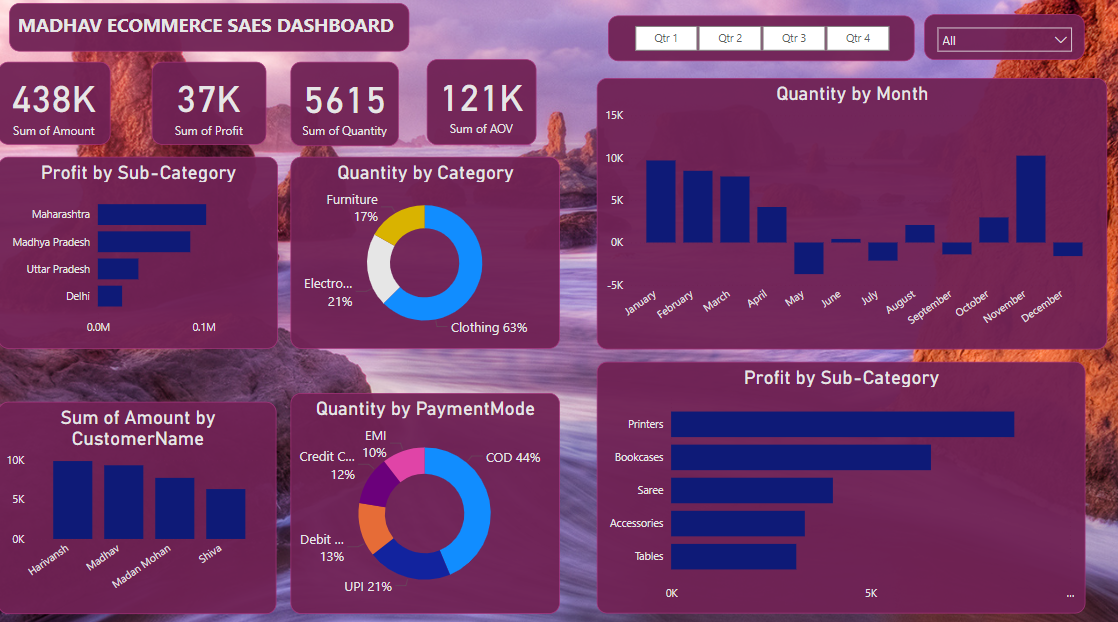

This screenshot's page, from the dashboard's own definition file:
{"tool":"powerbi","page":{"name":"Page 1","canvas":[1280,720],"ordinal":0},"visuals":[{"type":"textbox","box":[12.3,11,455.6,54.9],"z":0},{"type":"columnChart","title":" Quantity by Month","fields":{"Category":["Orders.Order Date.Variation.Date Hierarchy.Month"],"Y":["Sum(Details.Profit)"]},"box":[680.6,96.1,580.4,308.7],"z":1},{"type":"barChart","title":" Profit by Sub-Category","fields":{"Category":["Details.Sub-Category"],"Y":["Sum(Details.Profit)"]},"box":[680.6,419.9,555.7,286.8],"z":2},{"type":"donutChart","title":" Quantity by PaymentMode","fields":{"Y":["Sum(Details.Quantity)"],"Category":["Details.PaymentMode"]},"box":[333.4,455.6,306,251.1],"z":3},{"type":"donutChart","title":" Quantity by Category","fields":{"Category":["Details.Category"],"Y":["Sum(Details.Quantity)"]},"box":[333.4,186.6,306,218.2],"z":5},{"type":"card","fields":{"Values":["Sum(Details.Amount)"]},"box":[0,78.2,127.6,94.7],"z":6},{"type":"card","fields":{"Values":["Sum(Details.Profit)"]},"box":[174.3,78.2,130.4,94.7],"z":7},{"type":"card","fields":{"Values":["Sum(Details.Quantity)"]},"box":[333.4,78.2,123.5,96.1],"z":8},{"type":"card","fields":{"Values":["Sum(Details.AOV)"]},"box":[487.1,75.5,124.9,97.4],"z":9},{"type":"barChart","title":" Profit by Sub-Category","fields":{"Category":["Orders.State"],"Y":["Sum(Details.Amount)"]},"box":[0,186.6,318.4,218.2],"z":10},{"type":"columnChart","fields":{"Category":["Orders.CustomerName"],"Y":["Sum(Details.Amount)"]},"box":[0,465.2,317,241.5],"z":11},{"type":"slicer","fields":{"Values":["Orders.Order Date.Variation.Date Hierarchy.Quarter"]},"box":[694.3,26.1,348.5,52.1],"z":12},{"type":"slicer","fields":{"Values":["Orders.State"]},"box":[1053.9,24.7,182.5,52.1],"z":13}]}

Visuals, with their boxes in screenshot pixels (x1, y1, x2, y2), scaled from the page's 1280x720 canvas onto the 1118x622 screenshot:
textbox: BBox(11, 10, 409, 57)
" Quantity by Month" columnChart: BBox(594, 83, 1101, 350)
" Profit by Sub-Category" barChart: BBox(594, 363, 1080, 611)
" Quantity by PaymentMode" donutChart: BBox(291, 394, 558, 611)
" Quantity by Category" donutChart: BBox(291, 161, 558, 350)
card - Sum(Details.Amount): BBox(0, 68, 111, 149)
card - Sum(Details.Profit): BBox(152, 68, 266, 149)
card - Sum(Details.Quantity): BBox(291, 68, 399, 151)
card - Sum(Details.AOV): BBox(425, 65, 535, 149)
" Profit by Sub-Category" barChart: BBox(0, 161, 278, 350)
columnChart - Orders.CustomerName x Sum(Details.Amount): BBox(0, 402, 277, 611)
slicer - Orders.Order Date.Variation.Date Hierarchy.Quarter: BBox(606, 23, 911, 68)
slicer - Orders.State: BBox(921, 21, 1080, 66)
